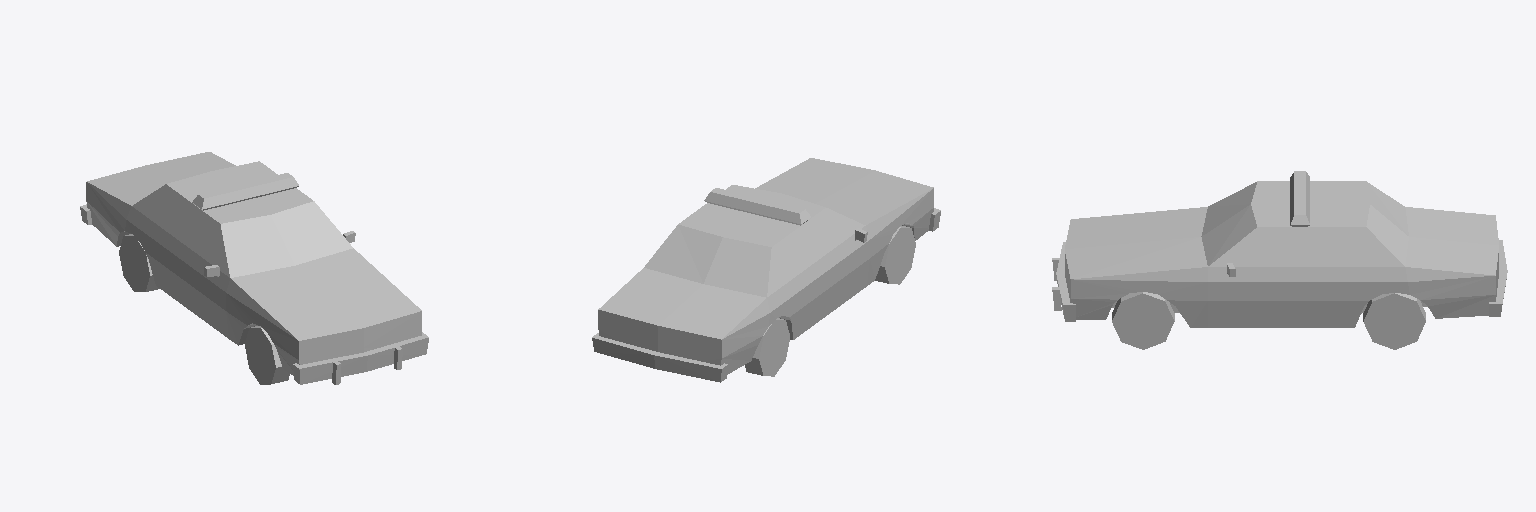
Rendered from Car5Police_o4.obj.
3 renders of one model, left to right at view 1: azimuth 30°, elevation 25°; view 2: azimuth 150°, elevation 25°; view 3: azimuth 270°, elevation 25°, orthographic.
Parts seen in each view (by area): view 1: Car5_Police; view 2: Car5_Police; view 3: Car5_Police.
Boxes of the visible parts, box(x1,y1,x2,y2) form: Car5_Police: box(80, 152, 428, 384); Car5_Police: box(592, 158, 940, 382); Car5_Police: box(1052, 171, 1507, 349).
Size of the model in its own units: 1.36 by 1.1 by 3.61.